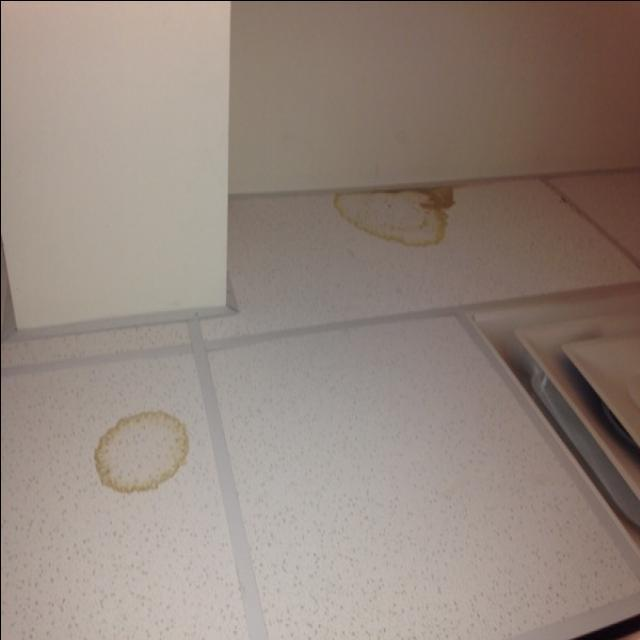leak: (90, 409, 208, 500), (329, 186, 459, 250)
